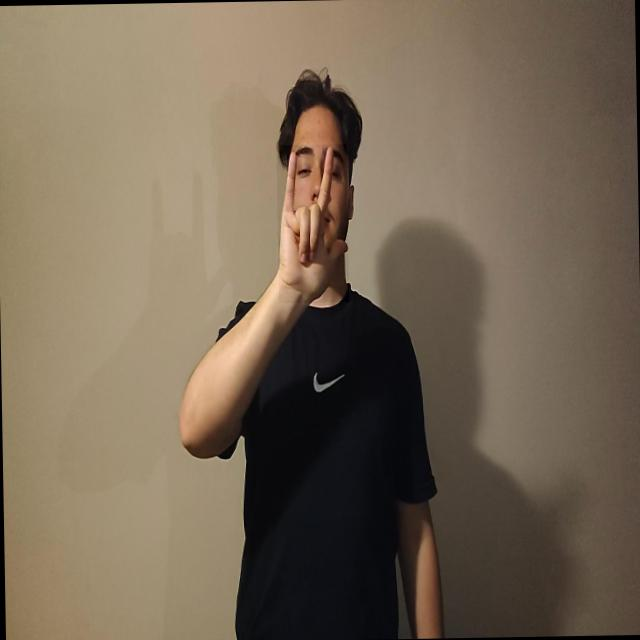iloveyou: (276, 144, 349, 302)
